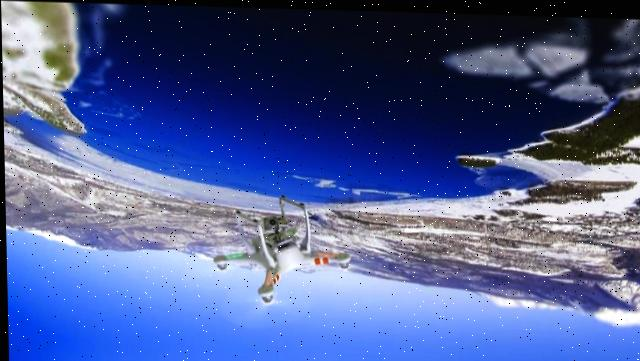drone: (163, 181, 398, 344)
